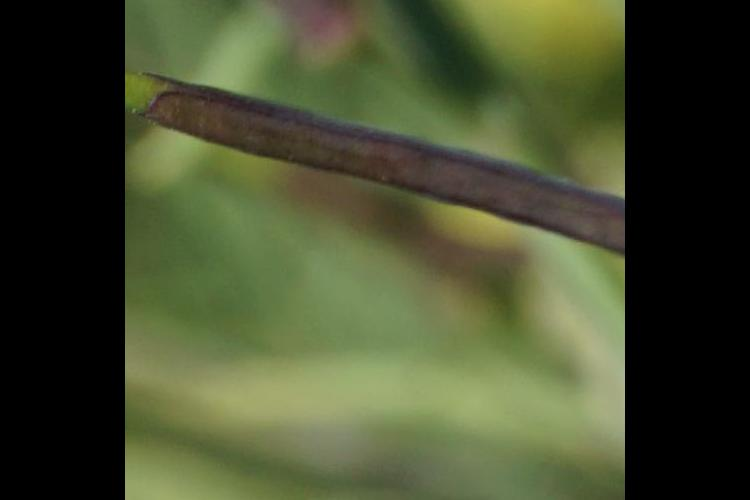pod: (133, 68, 619, 255)
